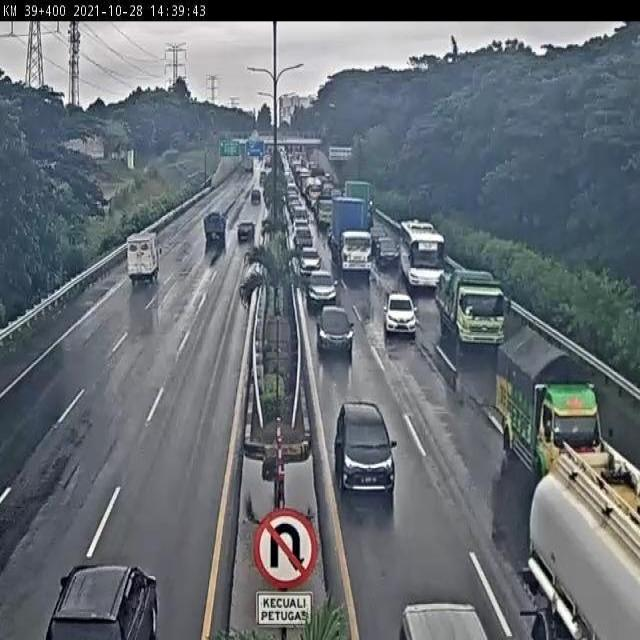Bus: (399, 218, 446, 291)
Car: (41, 562, 160, 640), (335, 398, 399, 502), (399, 598, 492, 640), (315, 304, 355, 359), (383, 288, 418, 341), (305, 270, 339, 311), (374, 236, 398, 270), (299, 247, 323, 277), (237, 221, 255, 244), (250, 190, 262, 203)
Truck: (524, 441, 640, 640), (497, 323, 608, 476), (438, 262, 510, 356), (328, 196, 374, 280), (126, 233, 163, 293), (345, 180, 375, 231), (203, 211, 226, 243), (314, 195, 334, 229), (184, 349, 186, 354)
